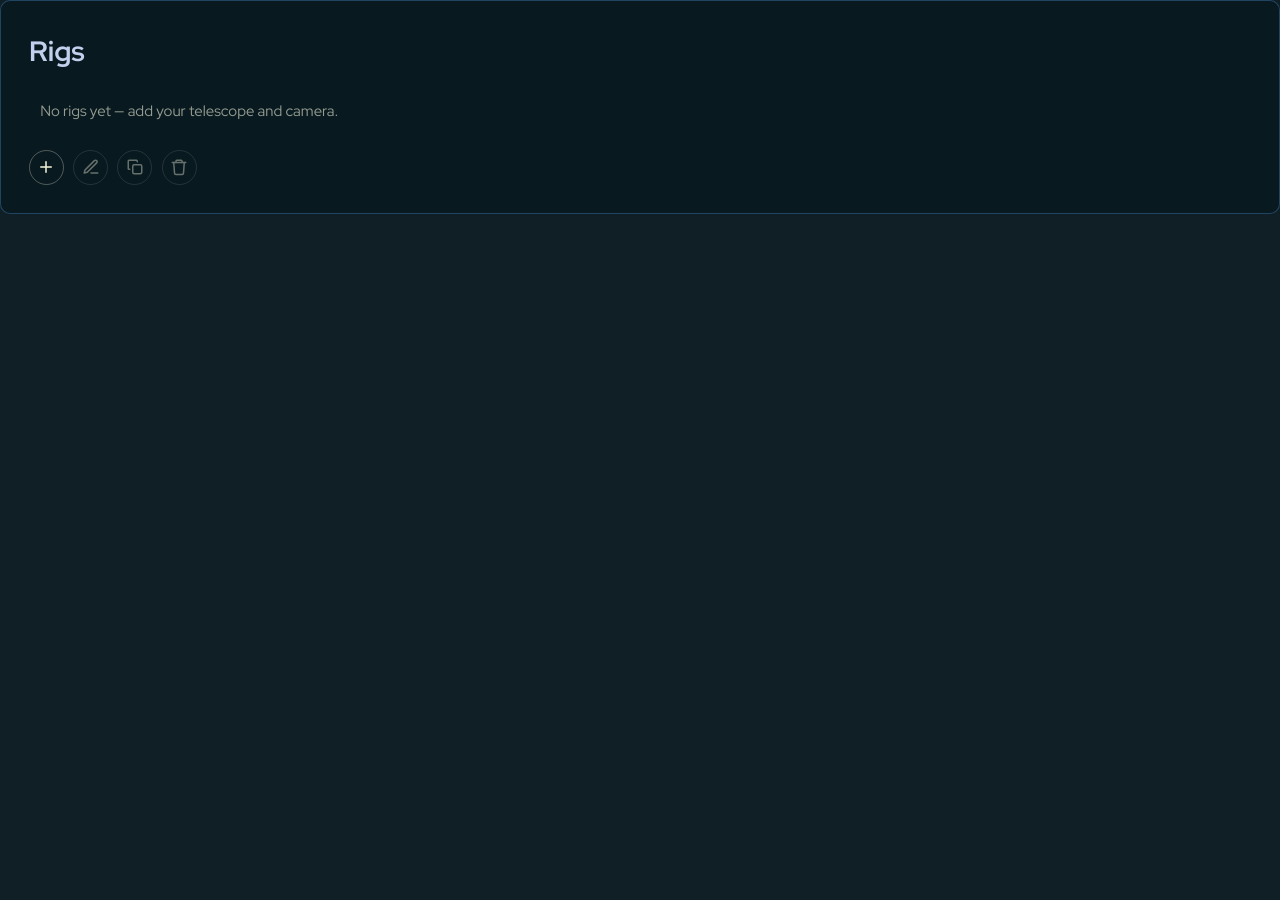
Test: adding › creates and selects the rig on save
Click the button named "add rig" at (46,167), box [29, 150, 64, 185]
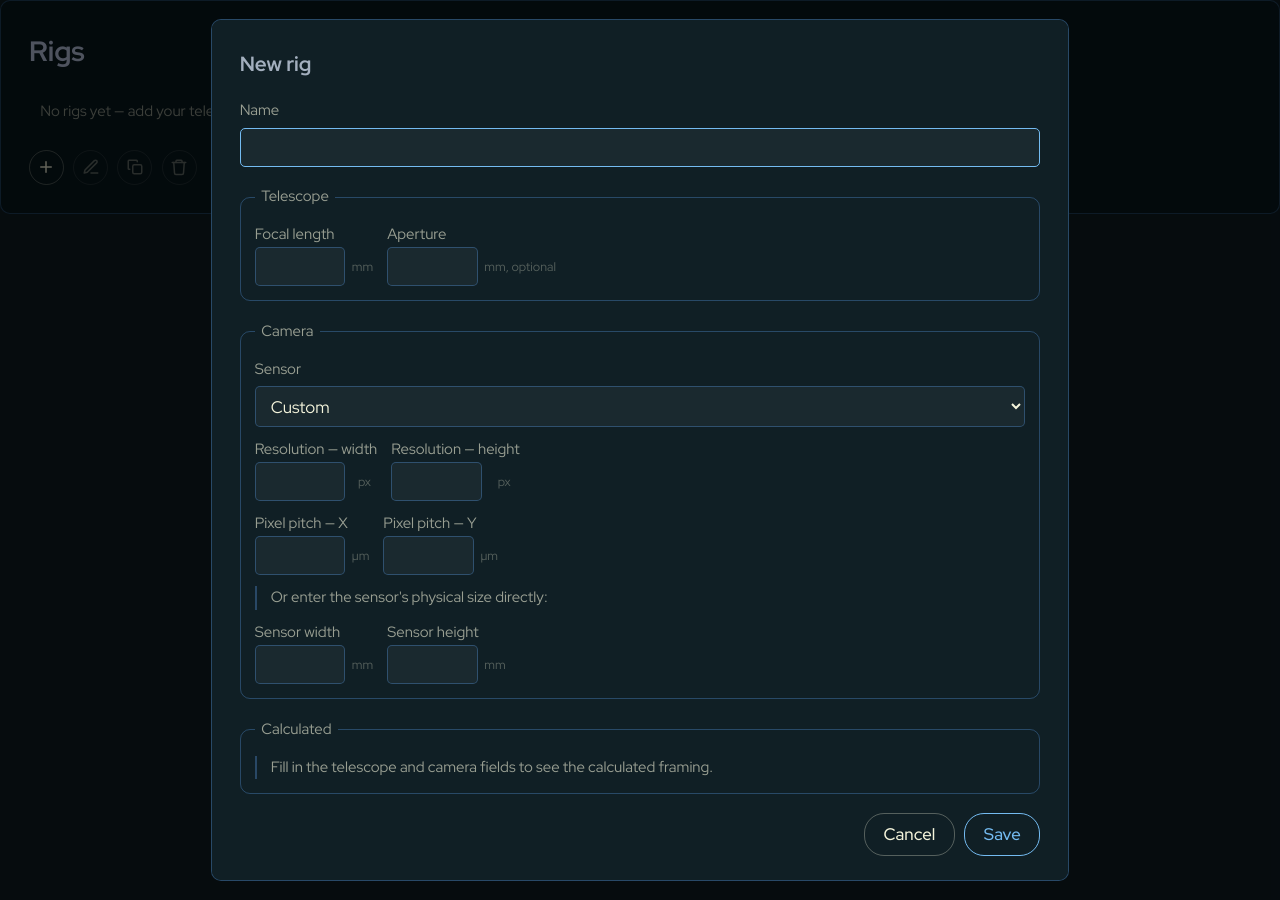
Type "New rig" into the field labelled "Name" at (640,147), box [240, 128, 1040, 167]
Type "500" into the number field labelled "Focal length mm" at (300,266), box [255, 247, 345, 286]
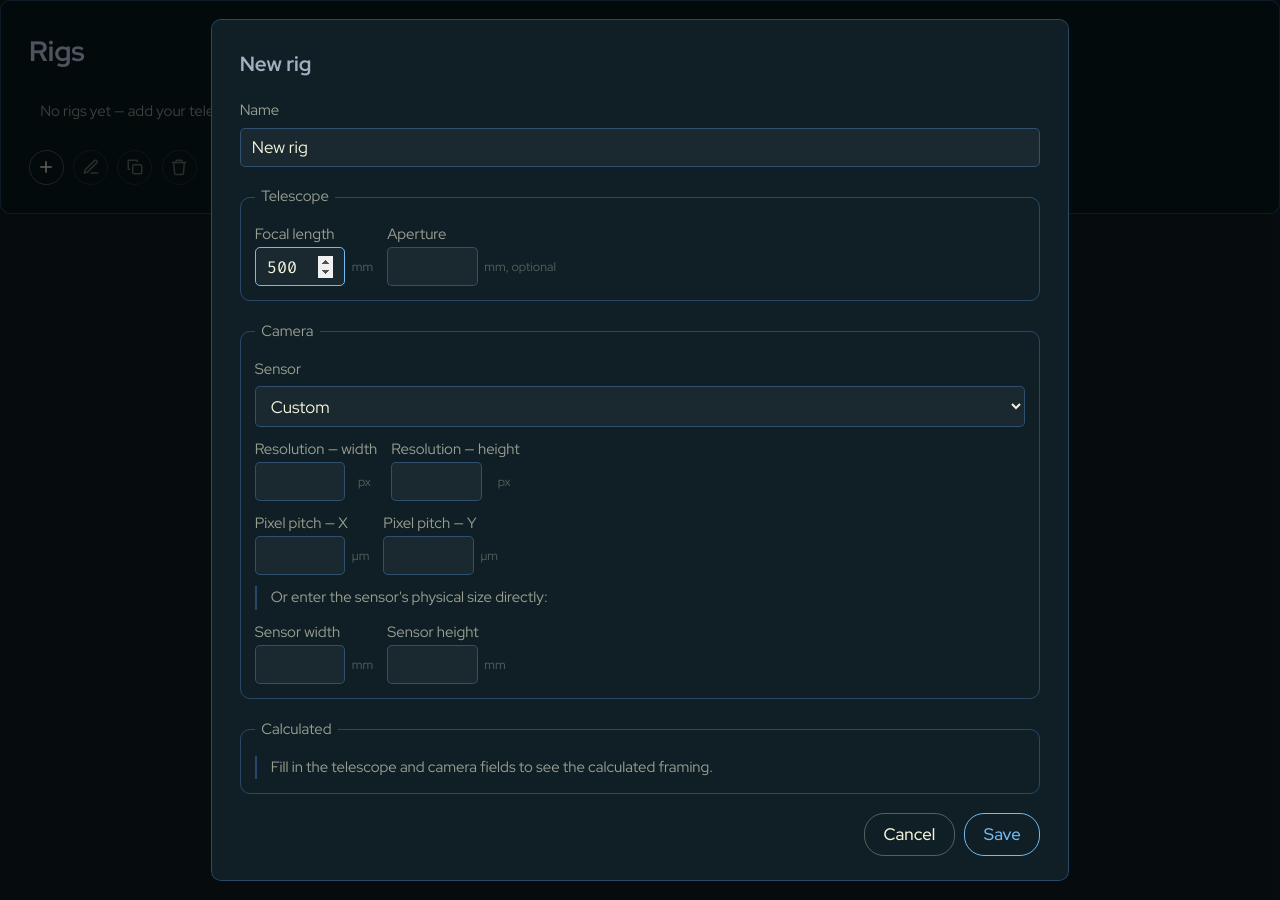
Type "3008" into the number field labelled "Resolution — width px" at (300,481), box [255, 462, 345, 501]
Type "3008" into the number field labelled "Resolution — height px" at (437,481), box [391, 462, 482, 501]
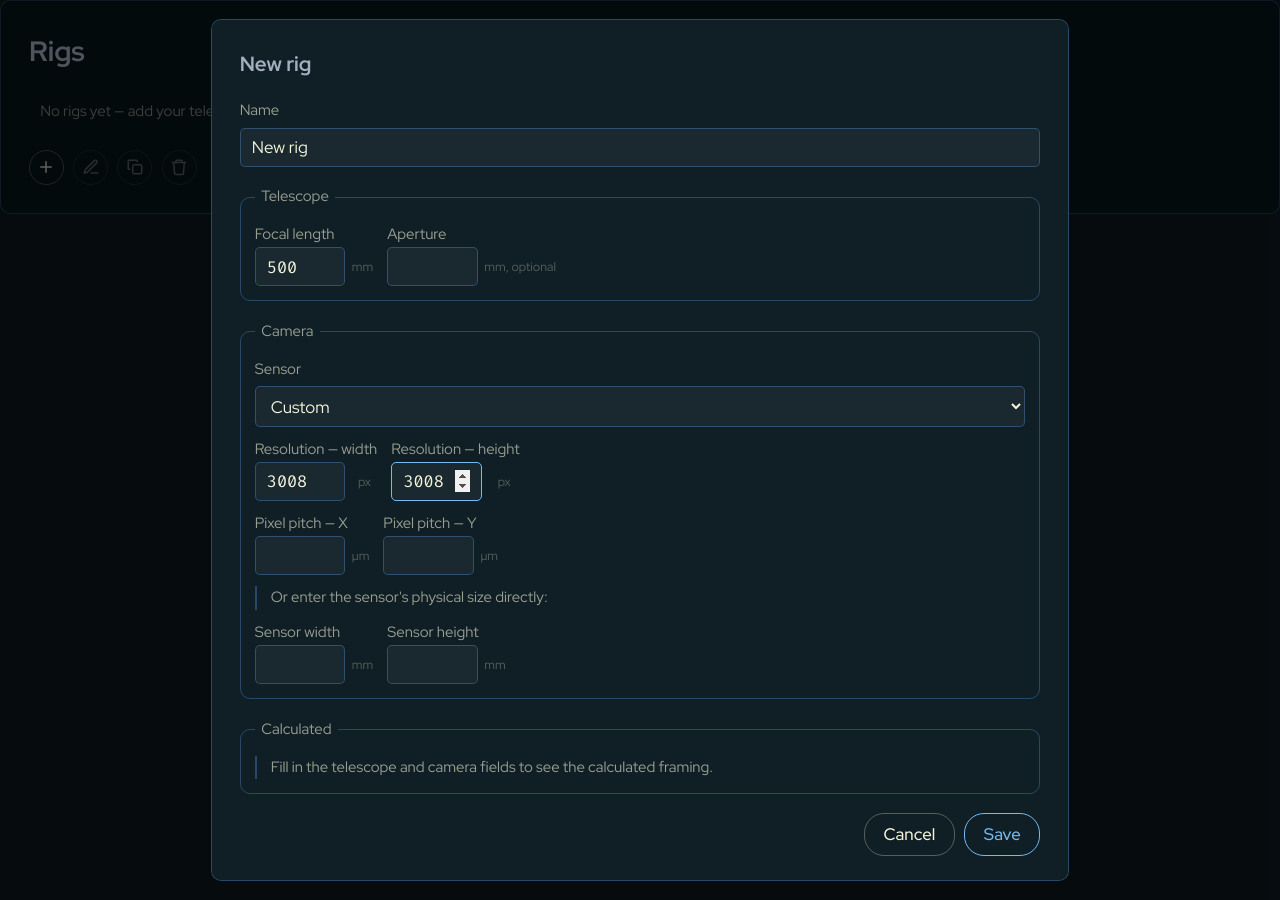
Type "3.76" into the number field labelled "Pixel pitch — X µm" at (300,555), box [255, 536, 345, 575]
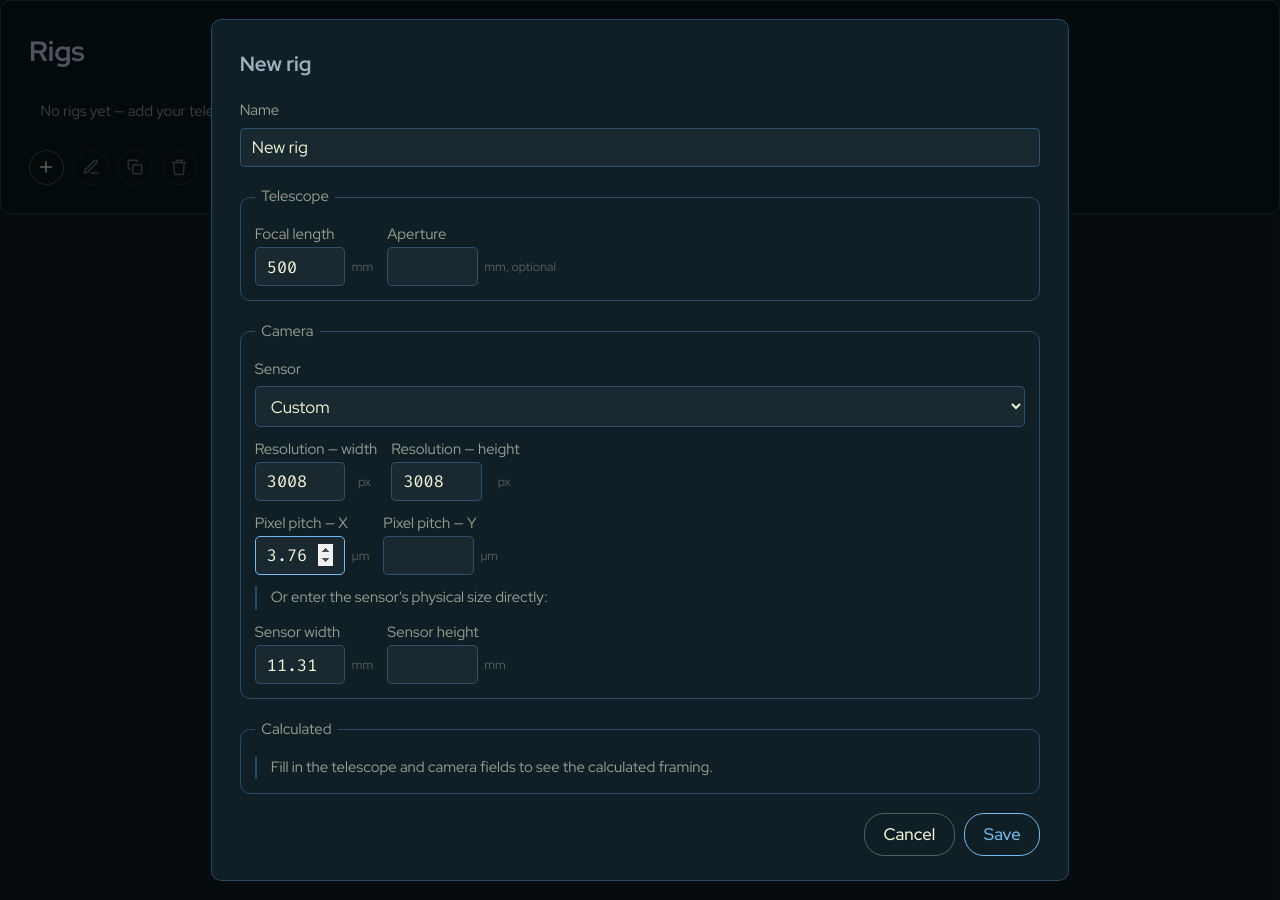
Type "3.76" into the number field labelled "Pixel pitch — Y µm" at (429,555), box [383, 536, 474, 575]
(page scrolled)
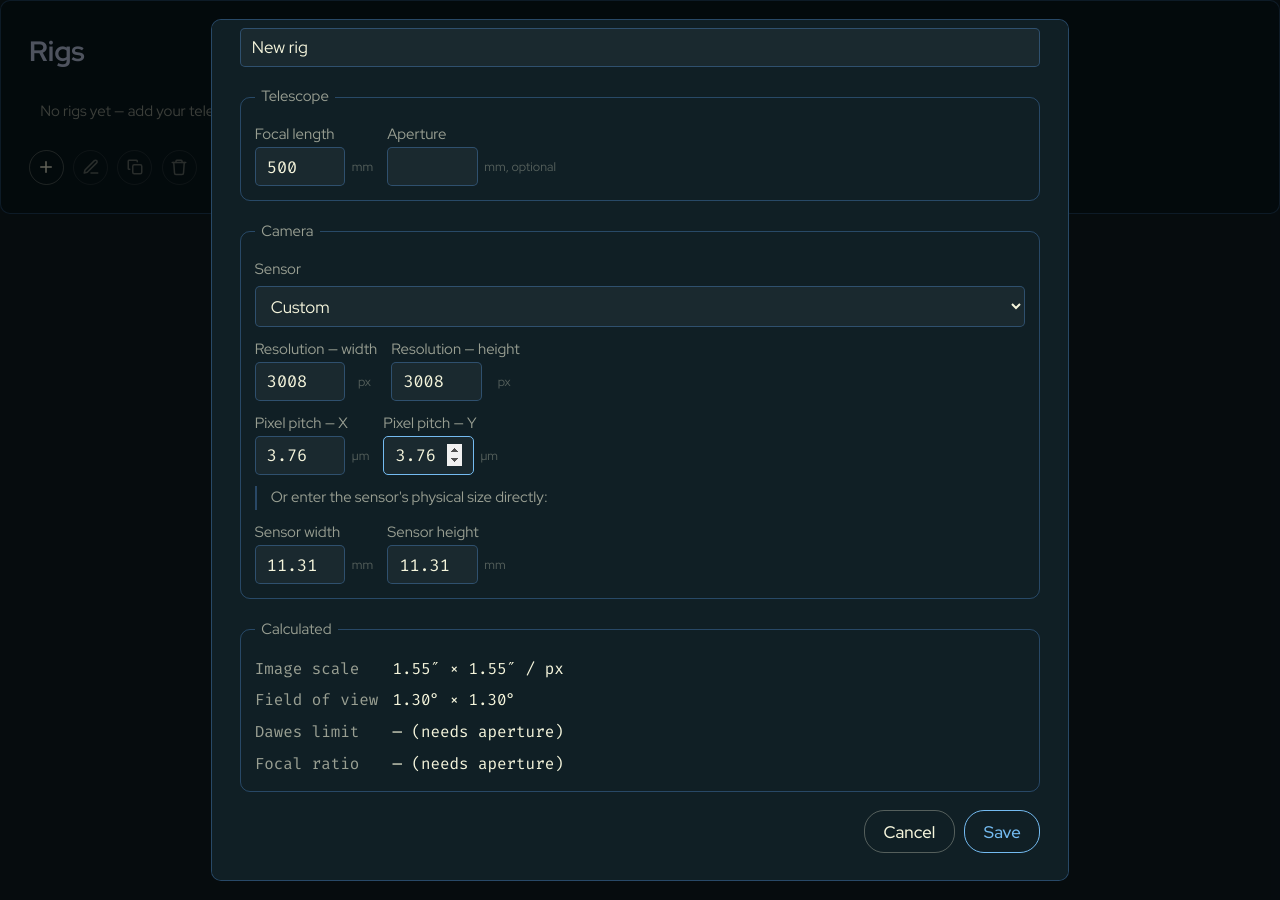
Click the button "Save" at (1002,832), box [964, 810, 1040, 853]
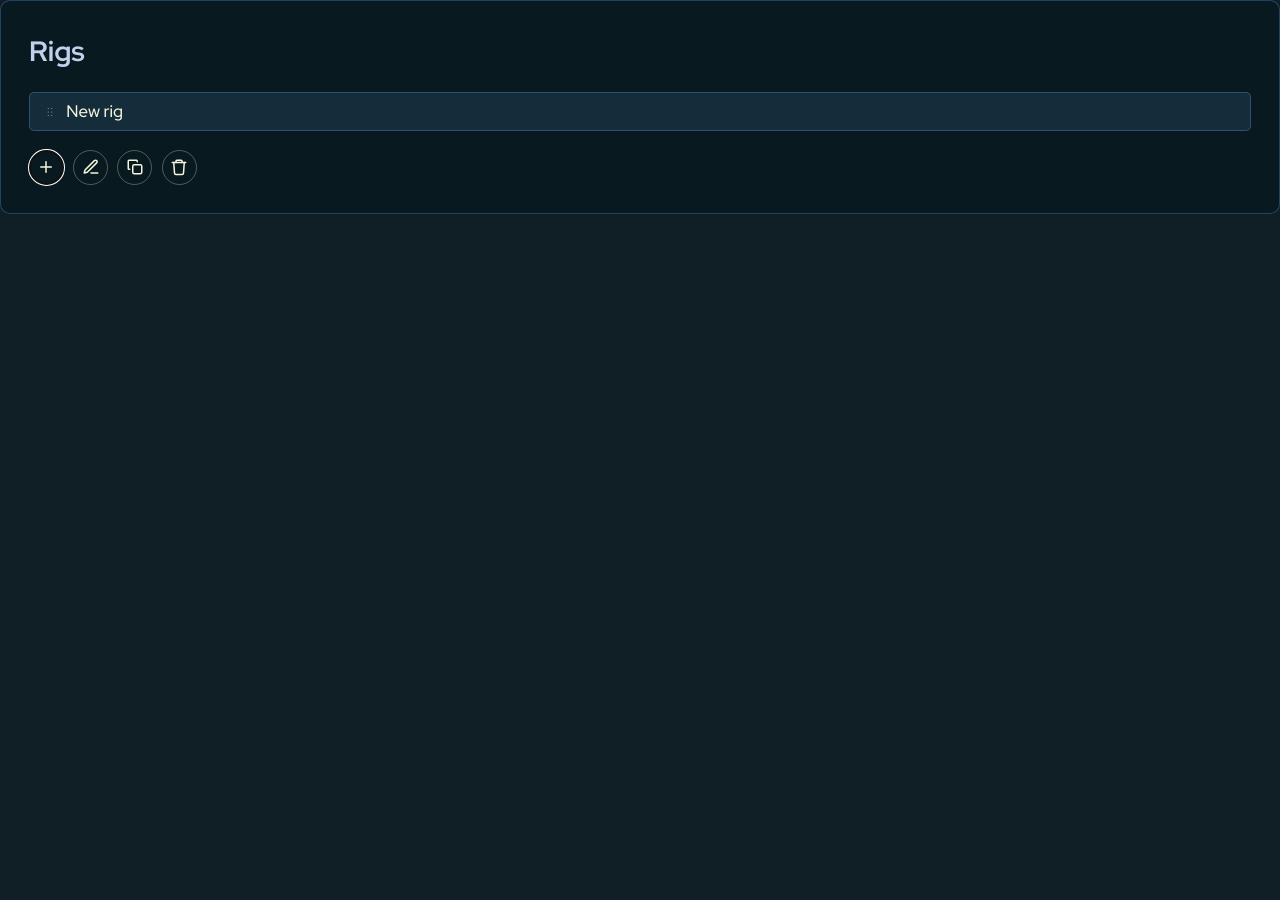
Check: the text "New rig" is shown, box [66, 101, 123, 123]
Check: the dialog is gone
